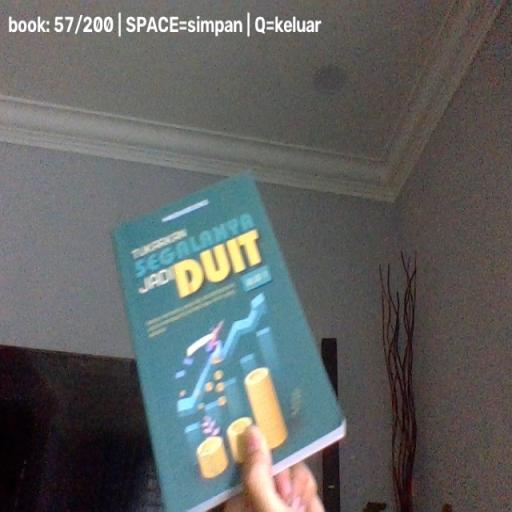Book: (109, 169, 348, 512)
